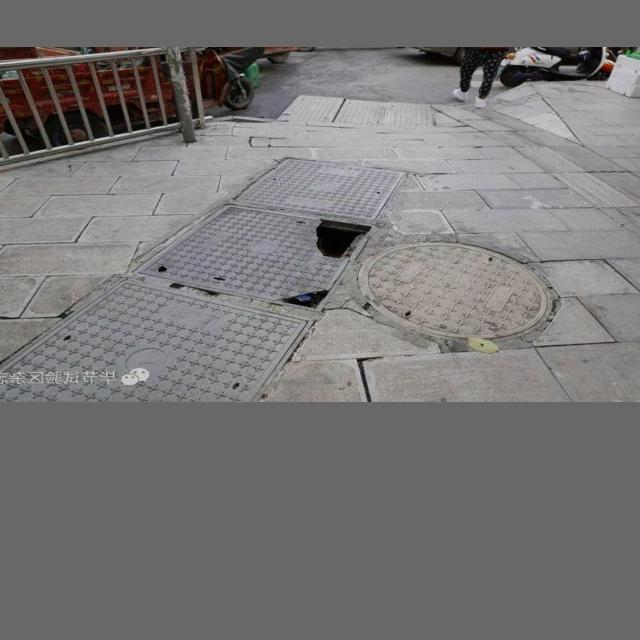broke: (125, 210, 378, 312)
